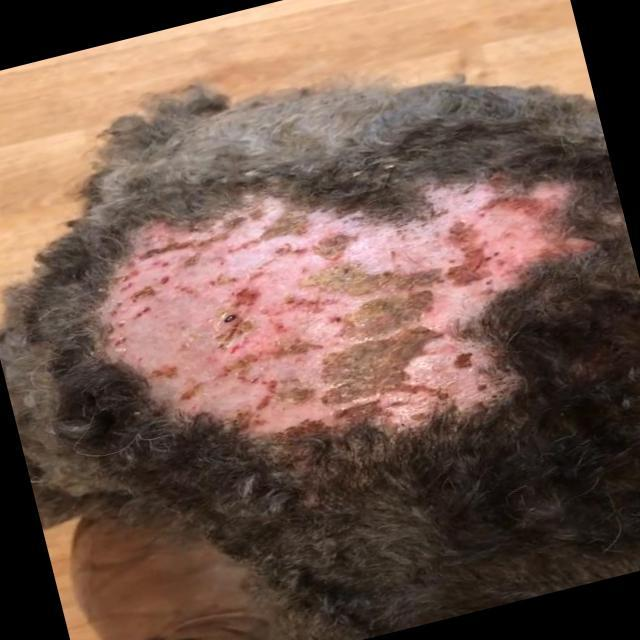allergic dermatitis: (96, 176, 576, 432)
